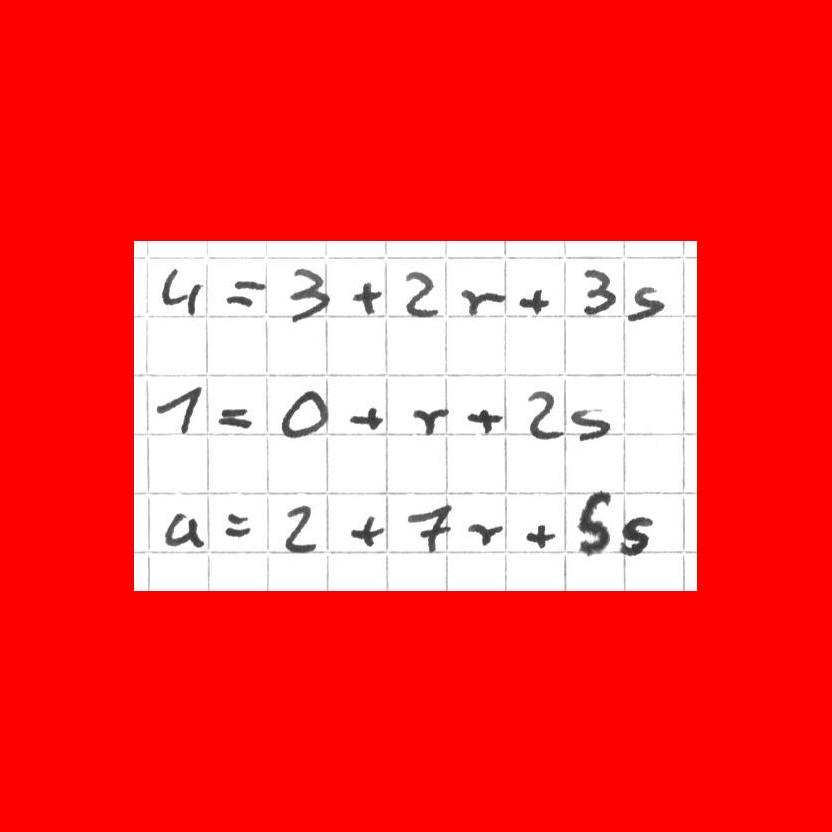Char: (277, 388, 331, 443), (405, 501, 457, 555), (286, 264, 332, 324), (152, 383, 203, 437), (576, 488, 614, 557), (576, 265, 620, 322), (158, 264, 204, 318), (524, 387, 565, 444), (281, 502, 321, 558), (403, 269, 441, 320), (163, 509, 207, 549), (568, 405, 611, 445), (618, 515, 657, 559), (458, 284, 508, 318), (349, 510, 390, 549), (625, 286, 667, 324), (226, 275, 272, 309), (411, 404, 452, 440), (462, 406, 506, 437), (465, 518, 507, 550), (522, 521, 561, 554), (516, 284, 551, 317), (353, 279, 384, 316), (215, 405, 257, 432), (345, 401, 381, 432), (224, 510, 254, 541)
